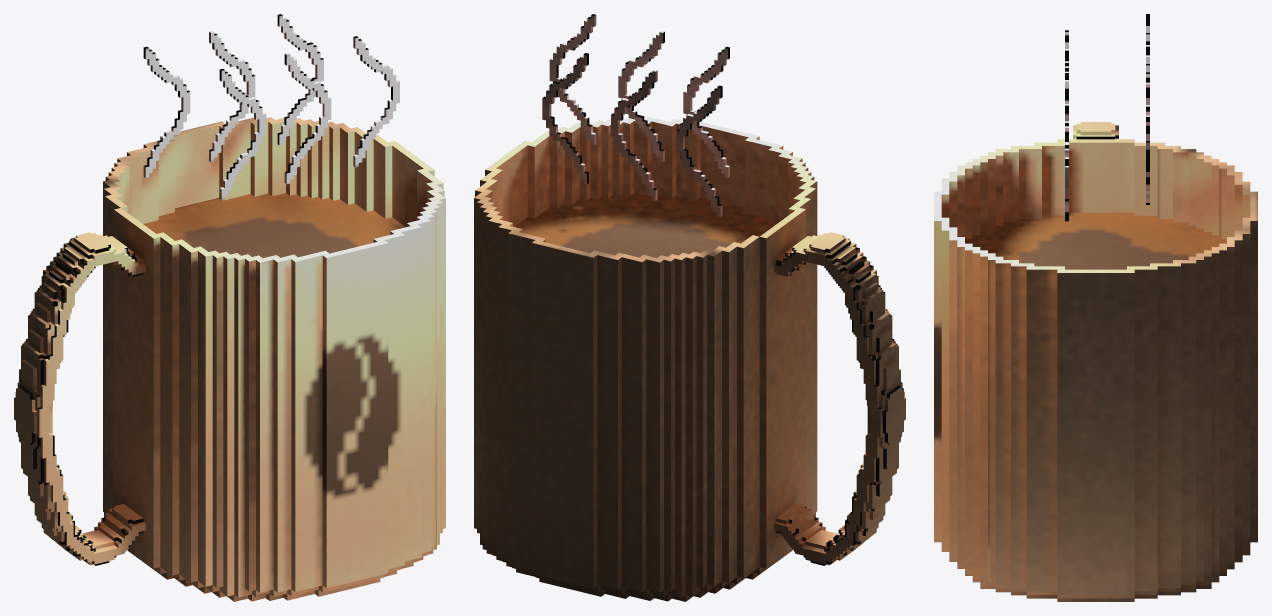
Rendered from coffee.glb.
3 views of the same model, side by side, from view 1: azimuth 30°, elevation 25°; view 2: azimuth 150°, elevation 25°; view 3: azimuth 270°, elevation 25° (orthographic). The views are drawn at different scales.
Parts seen in each view (by area): view 1: coffee_new; view 2: coffee_new; view 3: coffee_new.
Boxes of the visible parts, <box> form: coffee_new: <box>14,14,445,601</box>; coffee_new: <box>474,14,905,601</box>; coffee_new: <box>934,14,1257,601</box>.
Size of what is drawn, in the model's own units: 3.6 by 4.33 by 2.65.
Materials: 1 (1 with a texture image).
